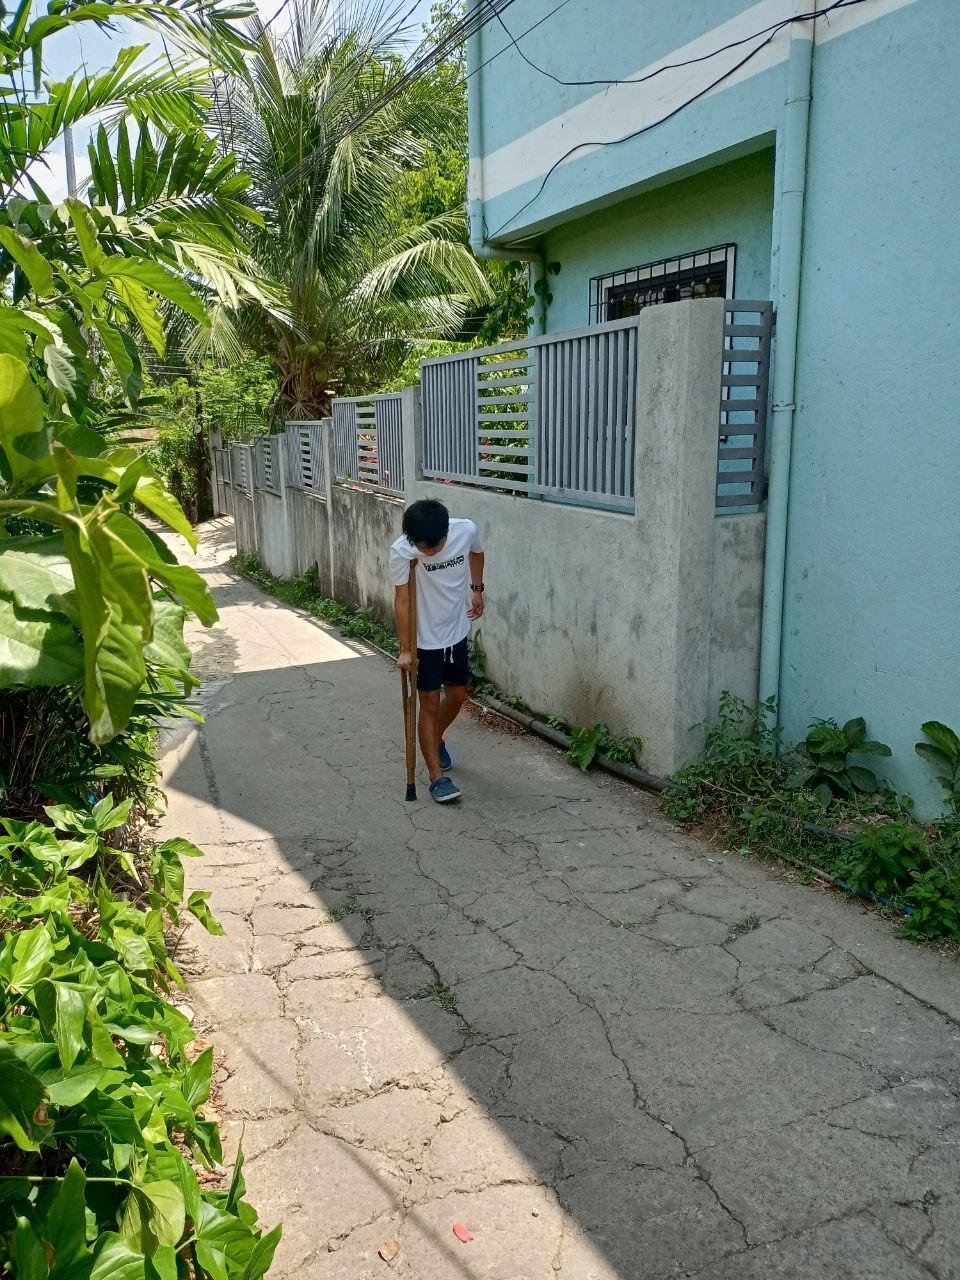crutches: (389, 500, 486, 803)
